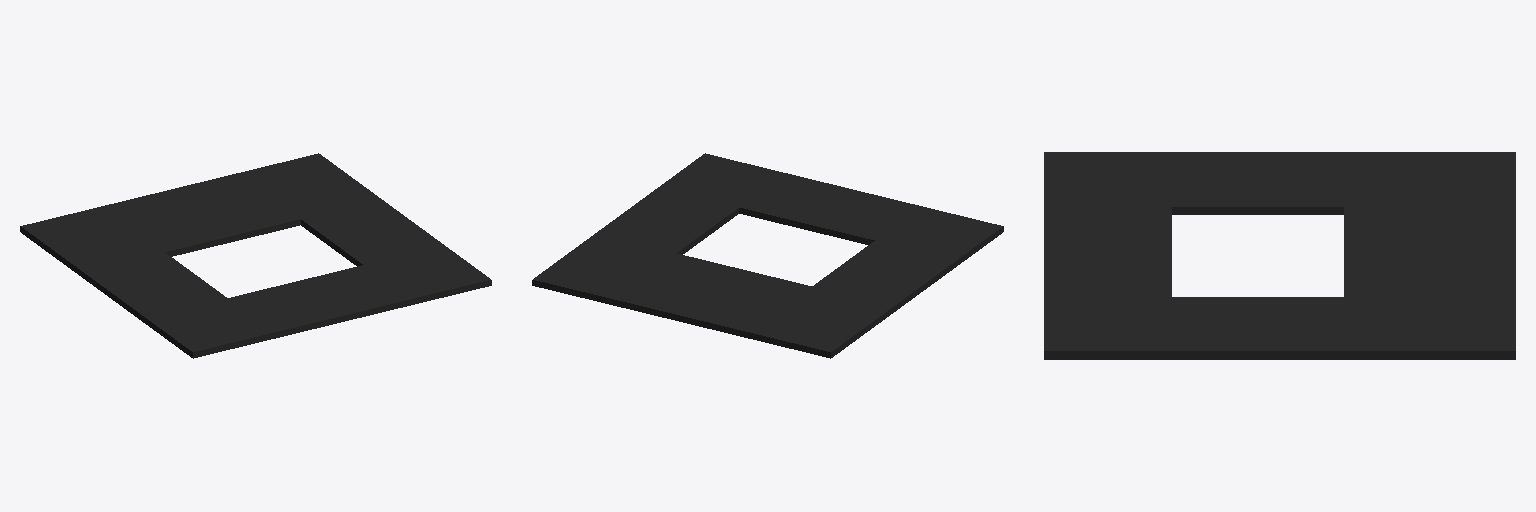
URDF robot description (Room101):
<robot name="Room101">
    <link name="_name">
        <visual> 
            <origin rpy="0.0 0.0 0.0" xyz="-0.4998124745847816 -0.5091884483149435 -0.01" />
                <geometry>
                    <mesh filename="Room101/Room101.obj" scale="1 1 0.1" />
                </geometry>

            <material name="black">
                <color rgba="0.2 0.2 0.2 0.95" />
            </material>
        </visual>

       <collision concave="yes" name="collision_0">
            <origin rpy="0.0 0.0 0.0" xyz="-0.4998124745847816 -0.5091884483149435 -0.01" />
            <geometry>
                <mesh filename="Room101/Room101_vhacd.obj" scale="1 1 0.1" />
            </geometry>
        </collision>

        <inertial> 
            <mass value="0" />
            <inertia ixx="0" ixy="0" ixz="0" iyy="0" iyz="0" izz="0" />
        </inertial> 
    </link>
</robot>

--- Facts derived from the render (not from the file) ---
3 views of the same robot in one strip: view 1: azimuth 30°, elevation 25°; view 2: azimuth 150°, elevation 25°; view 3: azimuth 270°, elevation 25° (orthographic).
Robot: Room101 — 1 links, 0 joints (none); root link _name; default pose: every joint at zero.
Links seen in each view (by area): view 1: _name; view 2: _name; view 3: _name.
Link boxes in pixels (<box>): _name: <box>20,153,491,358</box>; _name: <box>532,153,1003,358</box>; _name: <box>1044,152,1515,359</box>.
Size in the robot's own frame: 1 by 1 by 0.02 metres.
Meshes: 1 distinct files referenced, 1 mesh visuals loaded (1 OBJ).